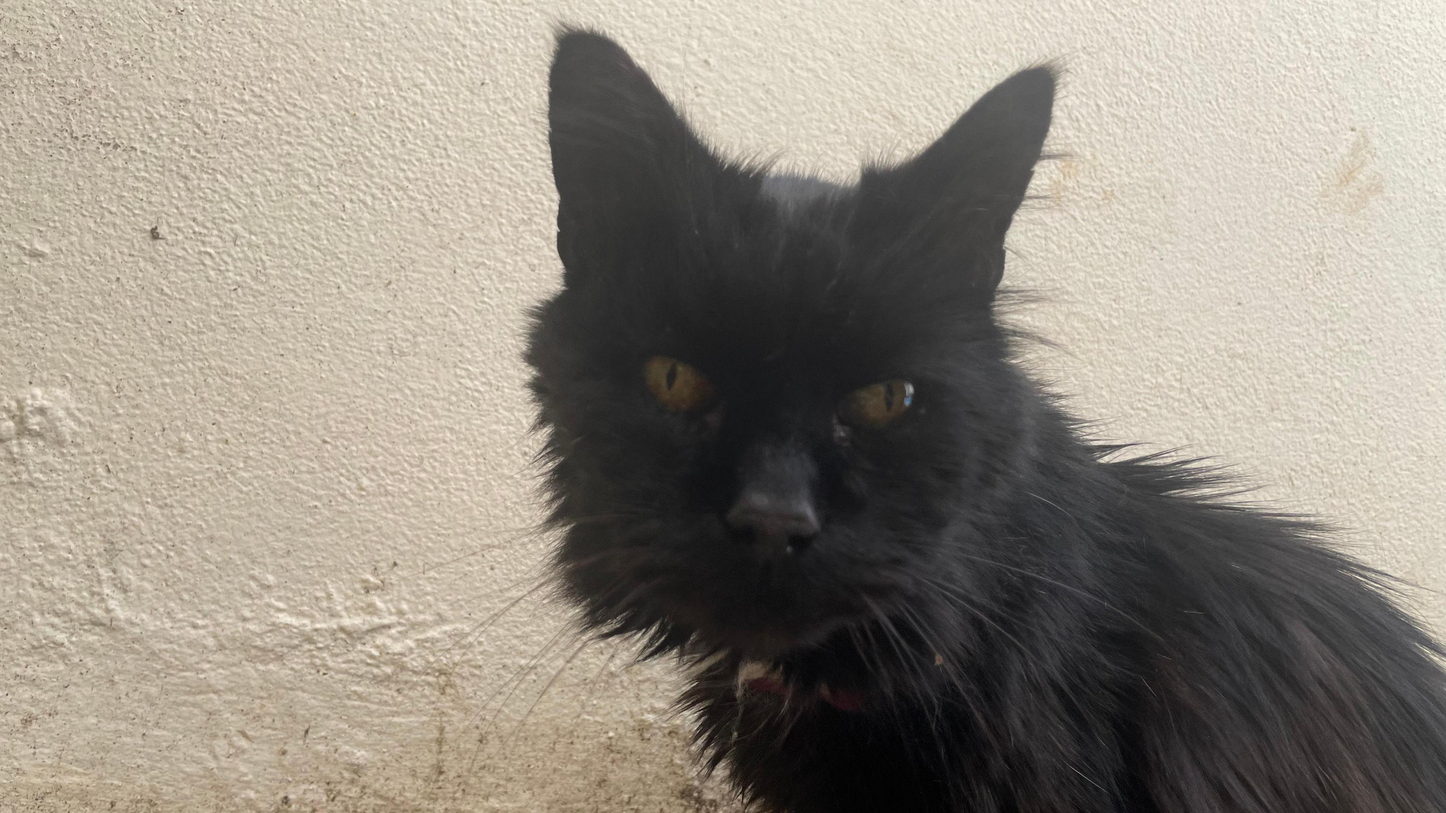Cat: (482, 17, 1441, 805)
